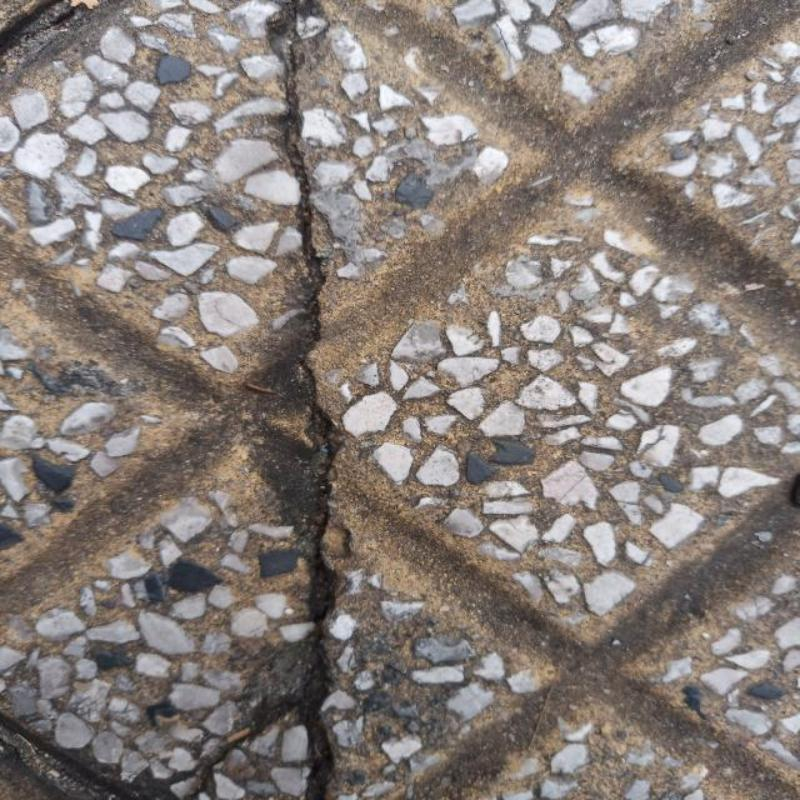crack: (269, 0, 333, 800)
